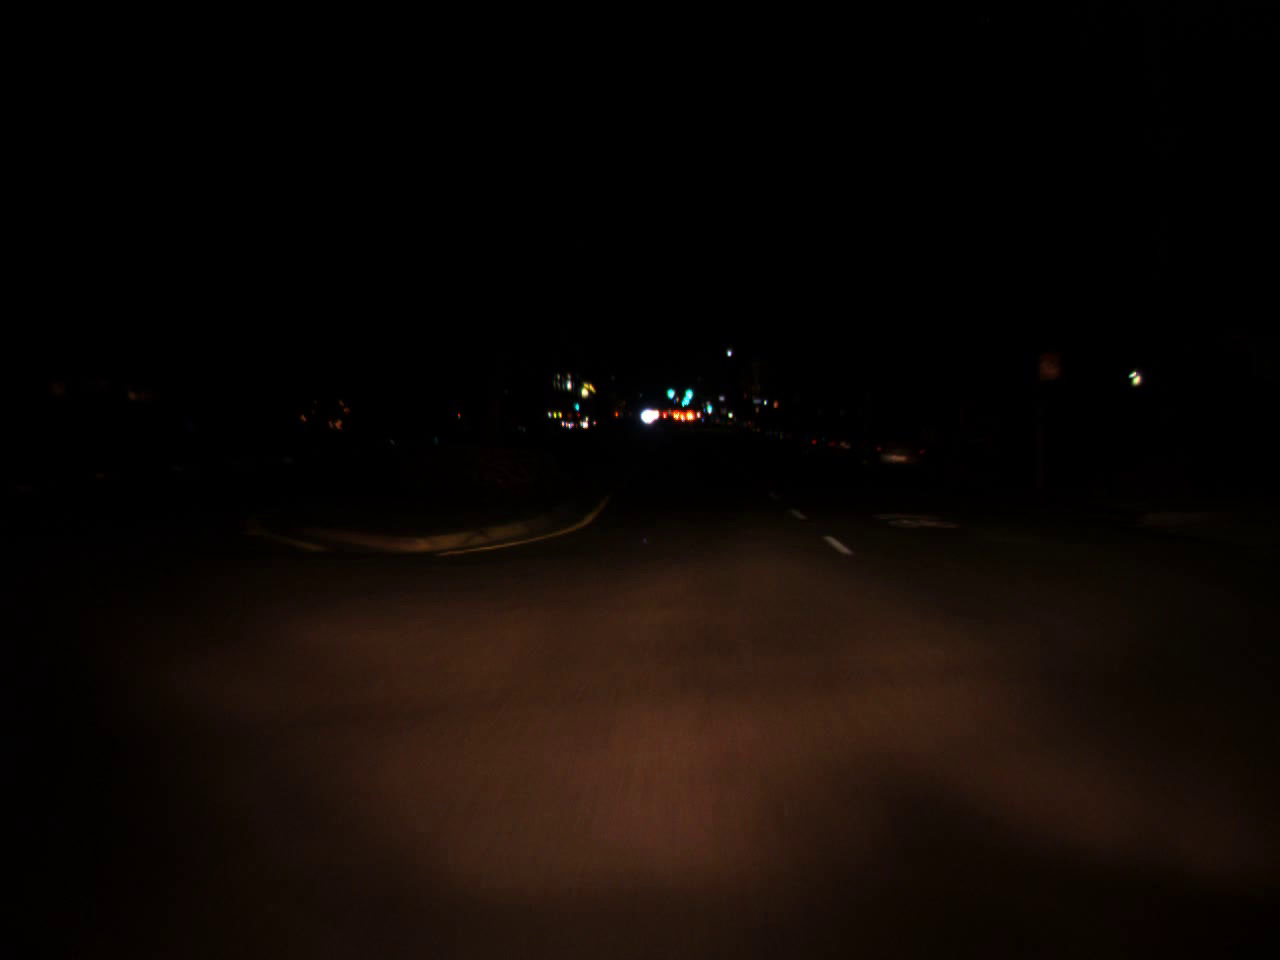go: (681, 378, 695, 402), (665, 378, 674, 402), (573, 395, 580, 413), (706, 400, 713, 412)
